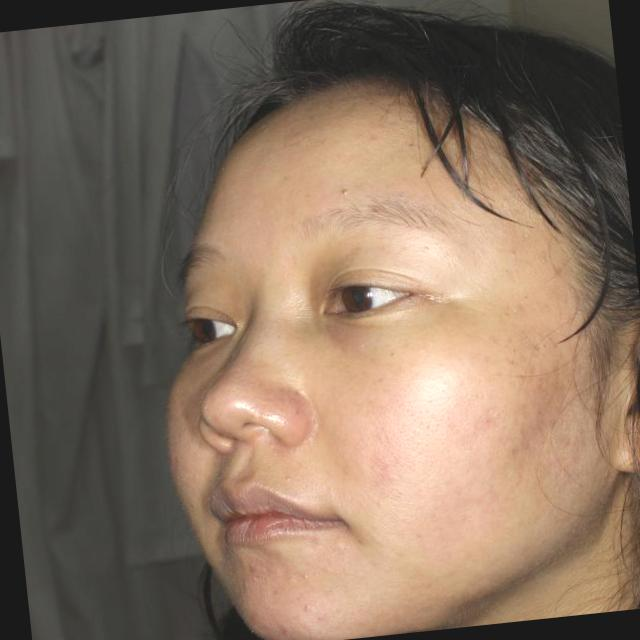acne: (245, 600, 277, 632)
